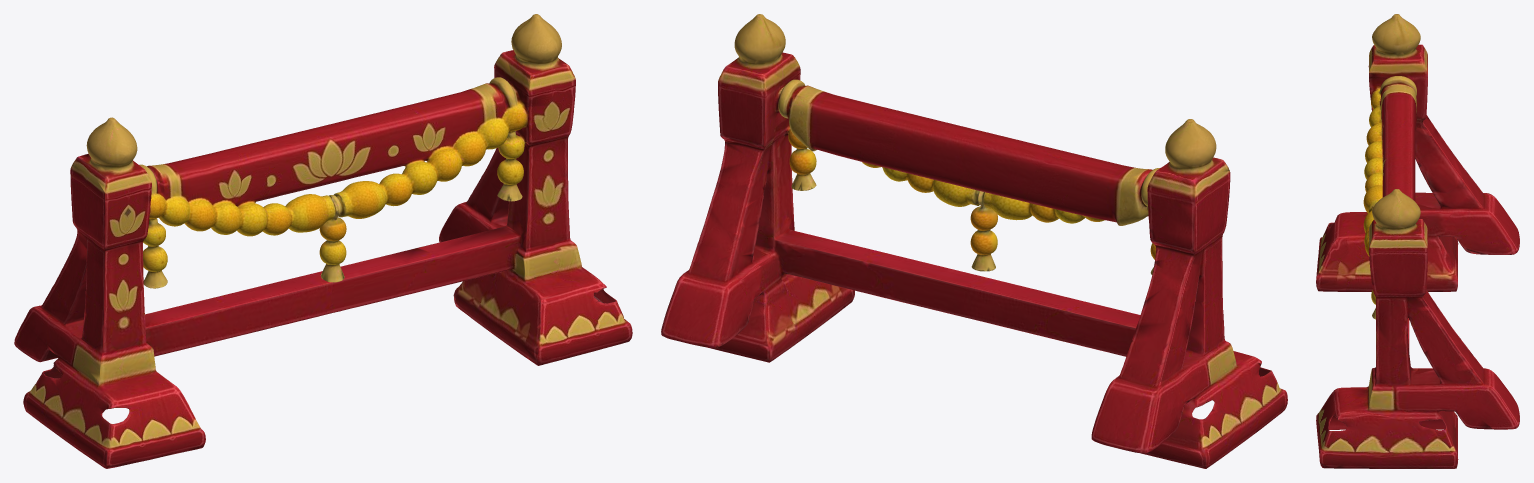
The model's file is marigold_temple_gate_mobile.glb.
3 renders of one model, left to right at view 1: azimuth 30°, elevation 25°; view 2: azimuth 150°, elevation 25°; view 3: azimuth 270°, elevation 25°, orthographic. The views are drawn at different scales.
Size of the model in its own units: 1.9 by 1.05 by 0.7509.
1 material, 1 textured.
